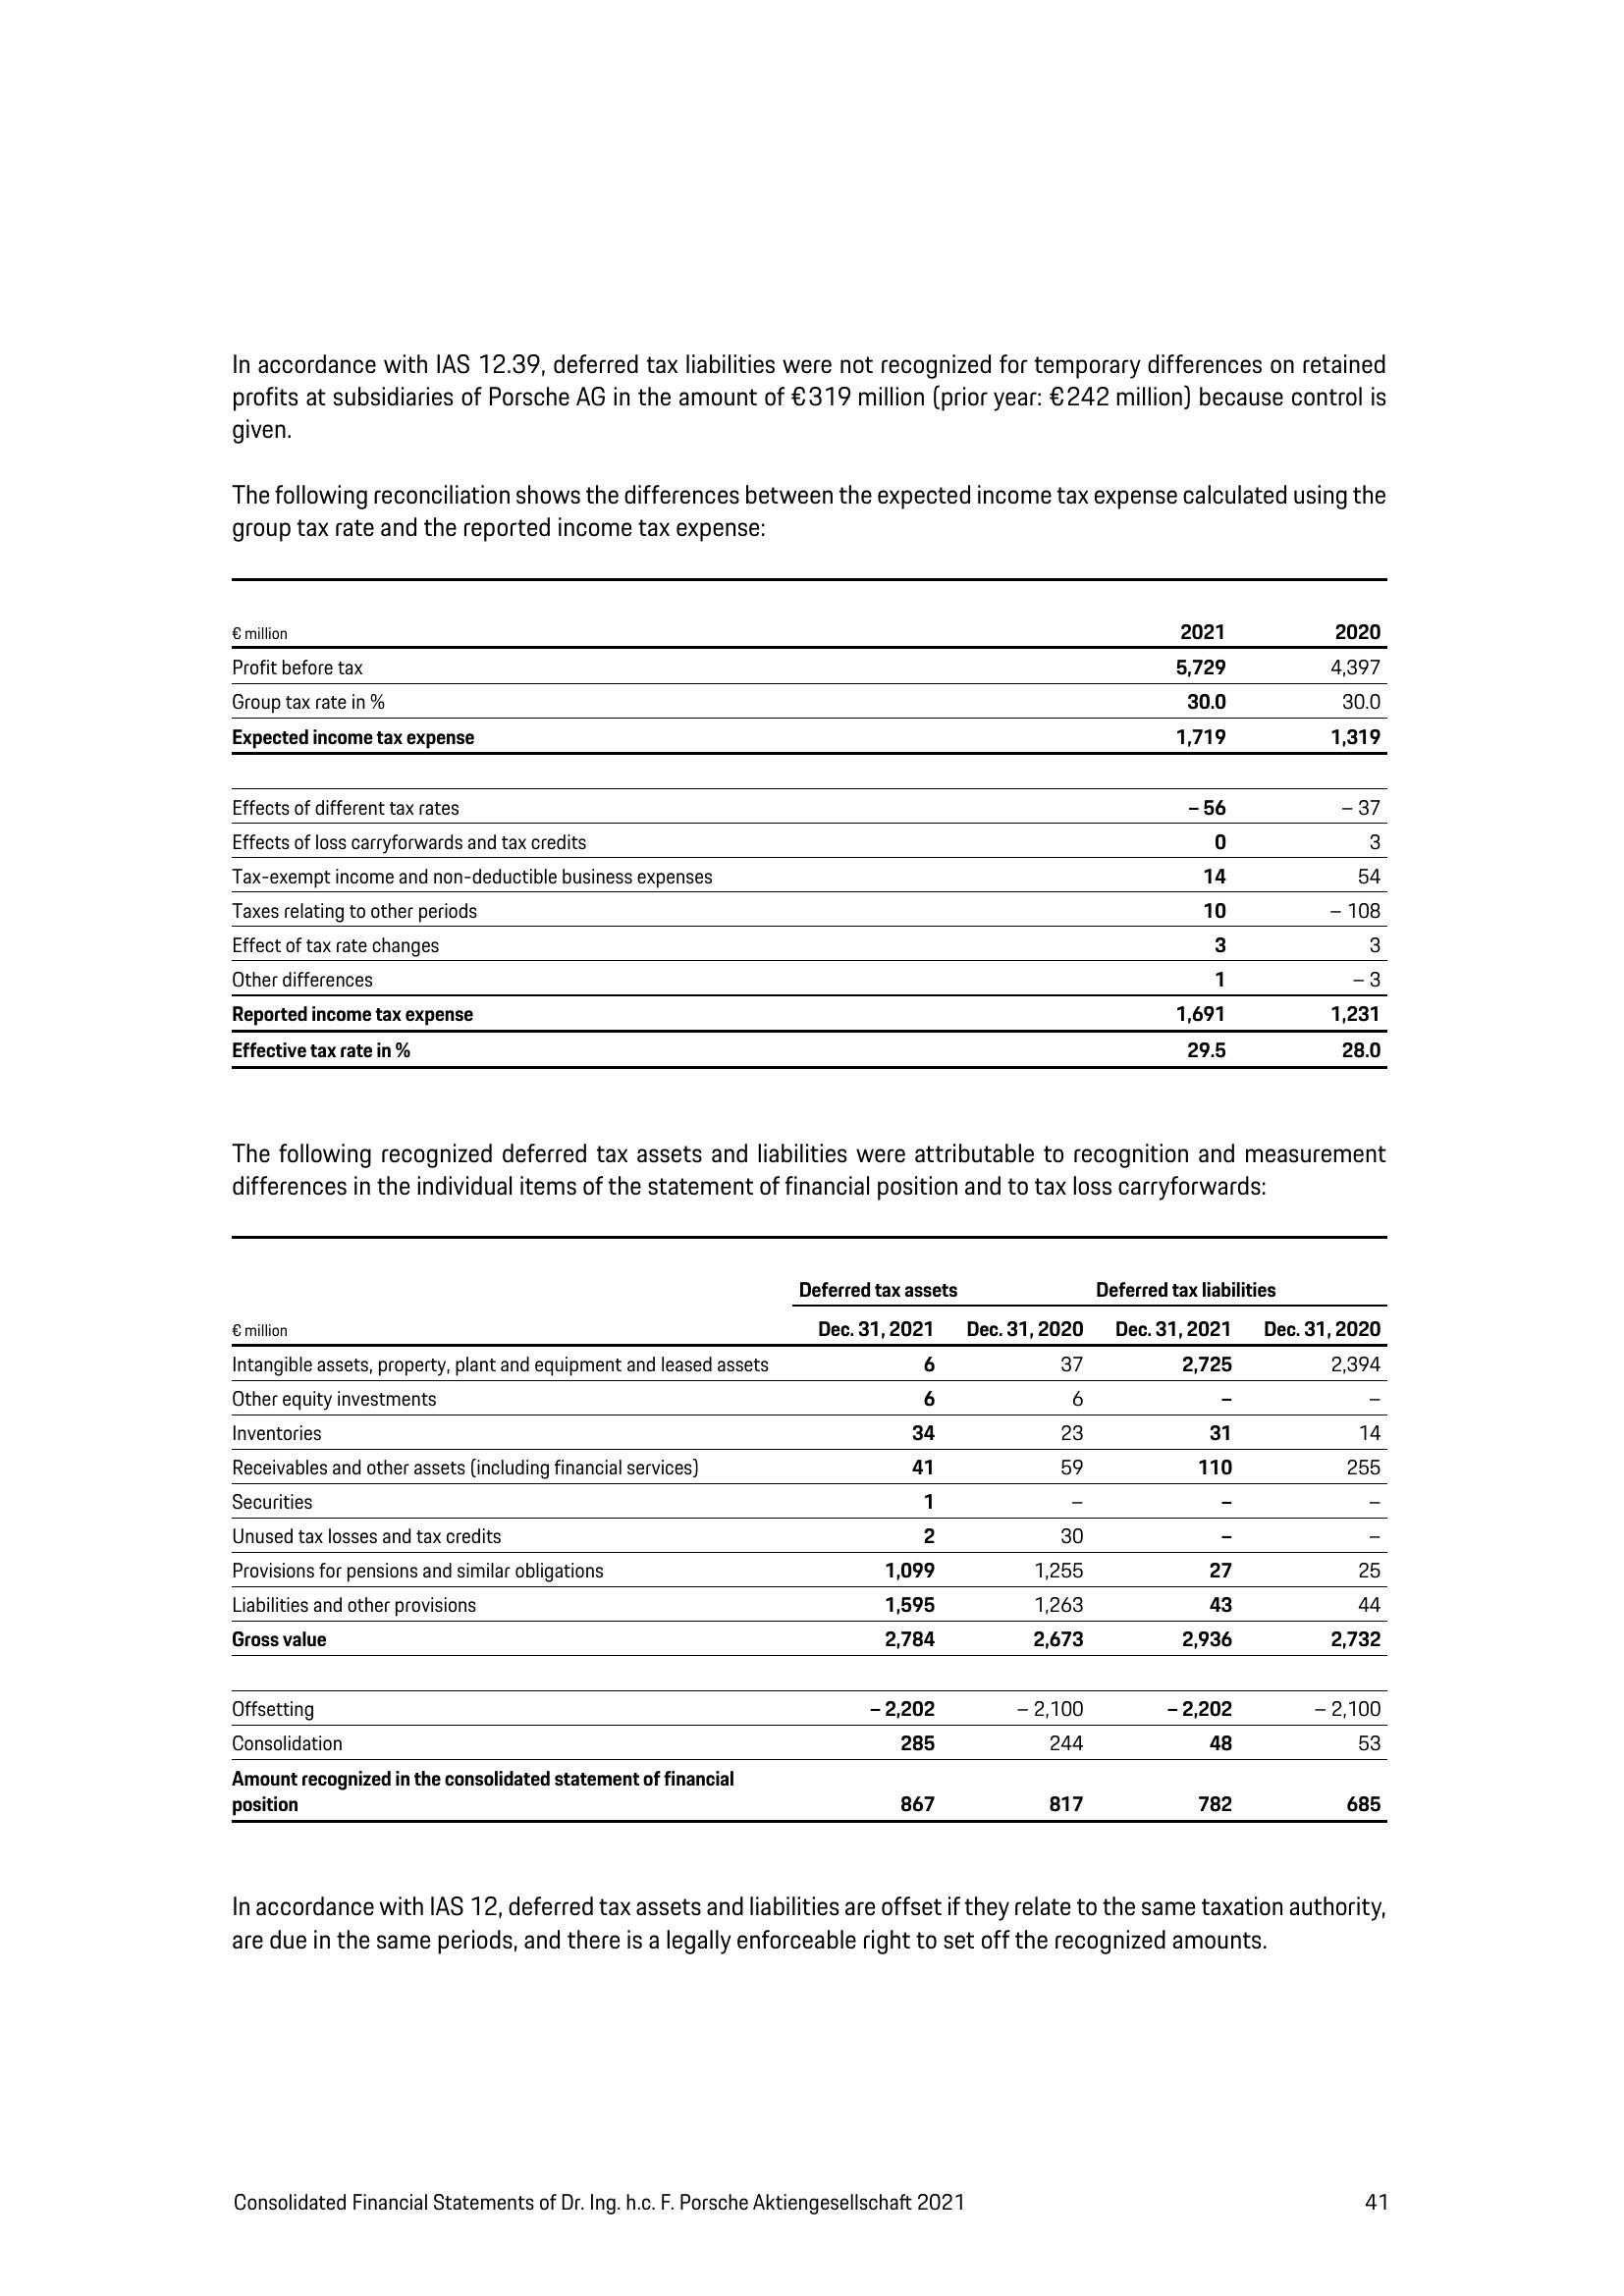Footer: (0, 2126, 1624, 2296)
Header: (0, 0, 1624, 206)
Table: (155, 1209, 1403, 1848), (158, 560, 1438, 1070)
